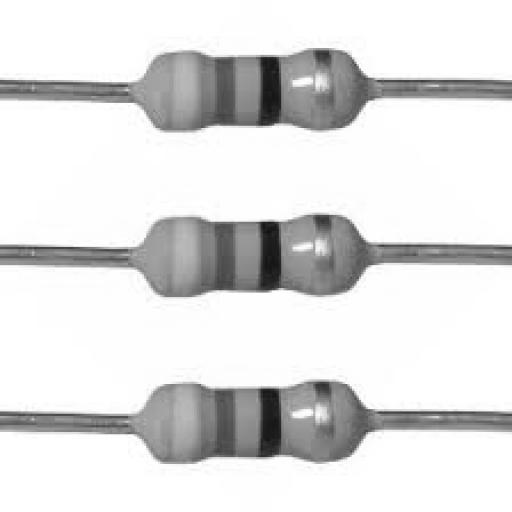RESISTOR: (81, 14, 404, 172), (106, 187, 405, 345), (121, 338, 378, 502)
